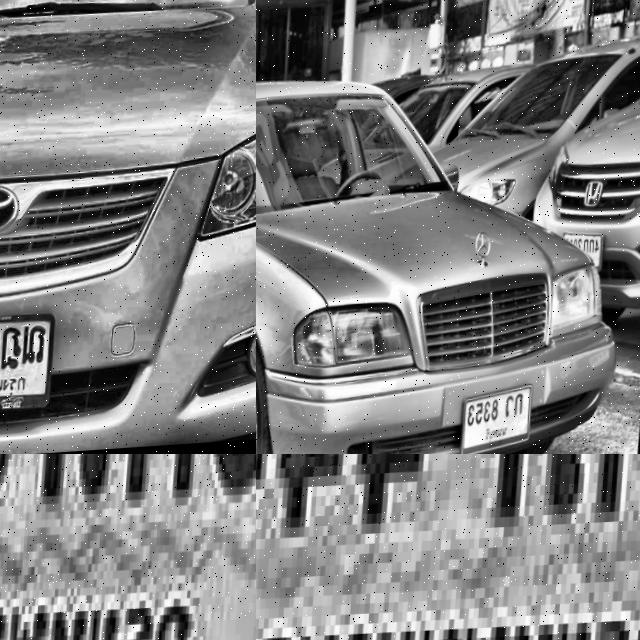license-plate: (256, 454, 640, 640), (0, 454, 256, 640), (0, 313, 62, 424), (463, 386, 543, 454)
